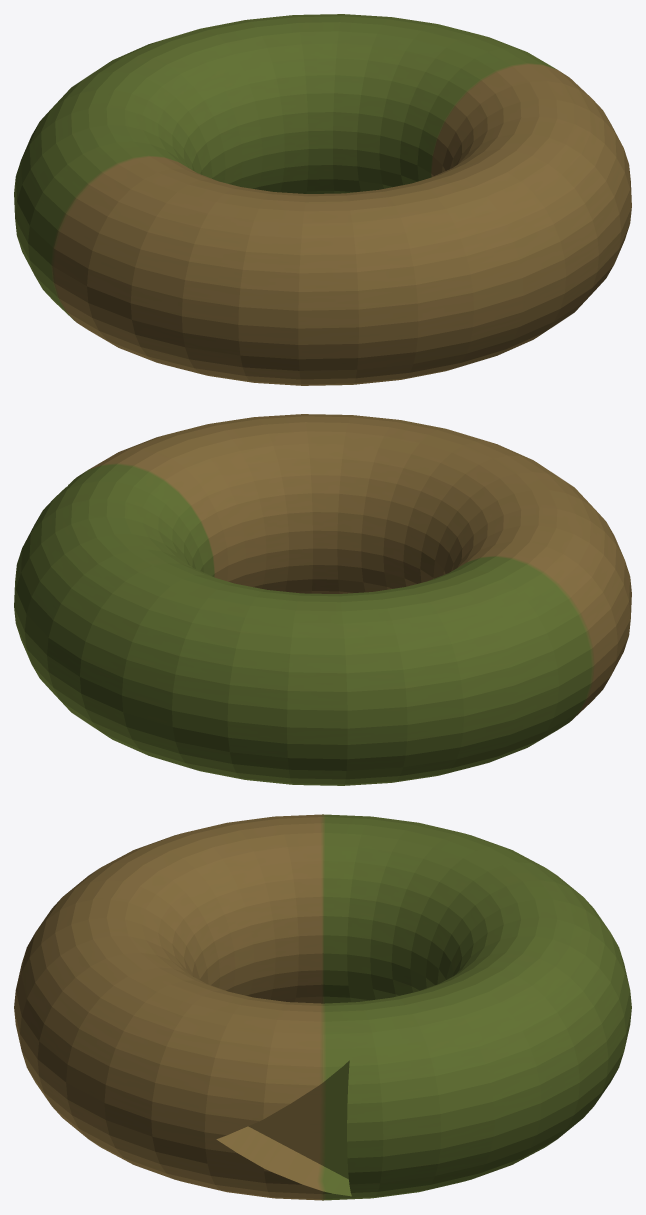
3 views of the same model, one above another, from view 1: azimuth 30°, elevation 25°; view 2: azimuth 150°, elevation 25°; view 3: azimuth 270°, elevation 25° (orthographic). The views are drawn at different scales.
Parts seen in each view (by area): view 1: geometry_0; view 2: geometry_0; view 3: geometry_0.
Boxes of the visible parts, <box> form: geometry_0: <box>14,14,631,385</box>; geometry_0: <box>14,414,631,785</box>; geometry_0: <box>14,814,631,1200</box>.
Size of the model in its own units: 2.67 by 0.8312 by 2.59.
Materials: 1 (1 with a texture image).
